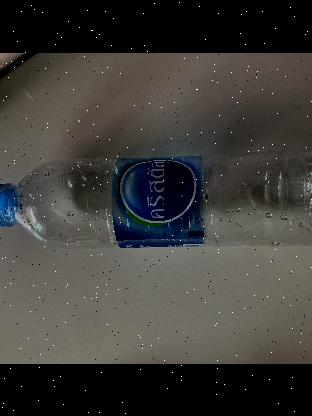Plastic Bottle: (0, 146, 312, 255)
